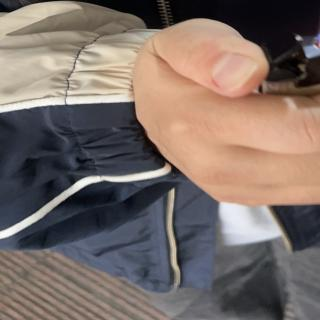fire: (316, 0, 320, 54)
